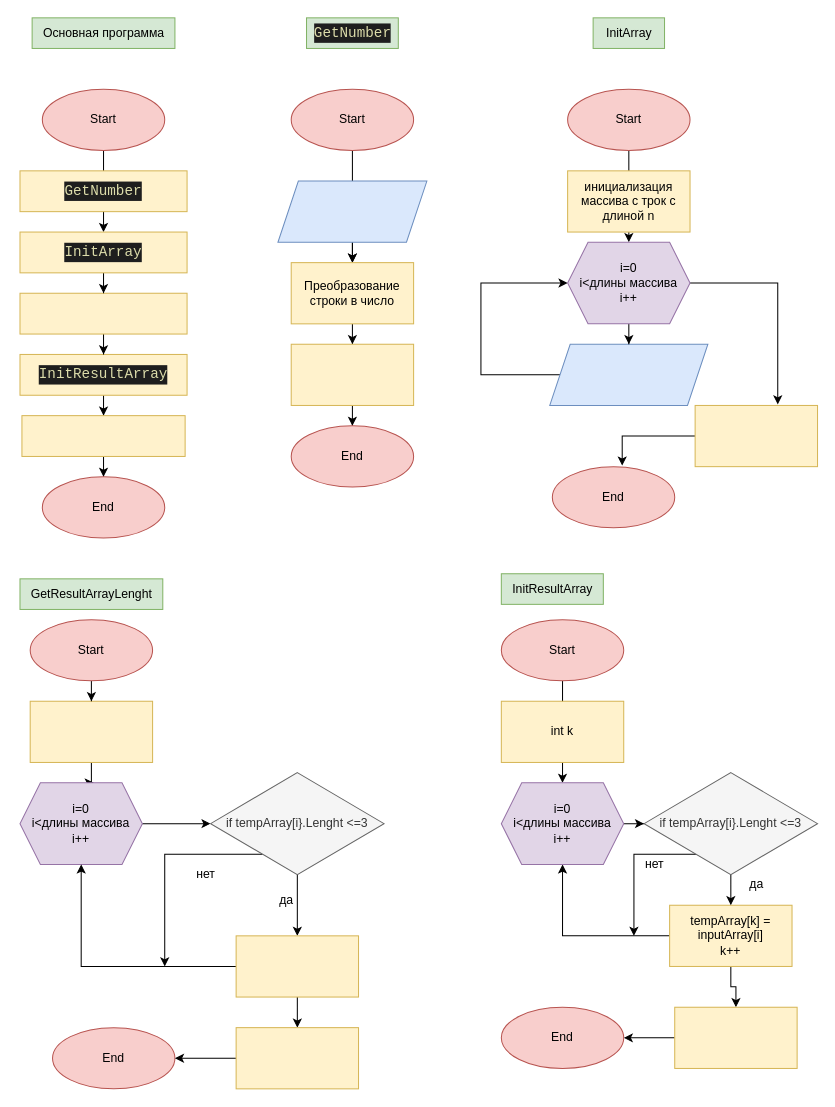
Image size: 835x1107. Some labels were removed from this diagram. The shapes that lost their labels are listed below. From the top down, each one's box as (x1, y1, x2, y2) in pixels, then its label:
(277, 180, 427, 242): ввод длины массива
(19, 292, 187, 334): GetResultArrayLength
(290, 343, 414, 405): возврат в основную программу
(549, 343, 708, 405): i элемент вводится с клавиатурры
(21, 415, 185, 456): PrintArray
(694, 404, 818, 467): возврат в основную программу массива строк
(29, 700, 153, 762): int resultArrayLenght
(235, 935, 359, 997): resultArrayLenght ++
(674, 1006, 797, 1068): возврат в основную программу массива tempArray
(235, 1027, 359, 1089): возврат в основную программу массива ResultArrayLenght
